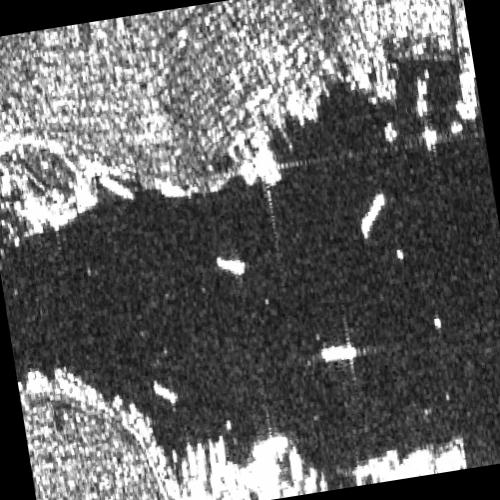ship: (360, 191, 386, 237), (99, 174, 135, 201), (216, 255, 247, 276), (321, 345, 357, 363), (152, 381, 178, 404), (185, 442, 199, 478), (195, 441, 207, 479), (216, 435, 228, 466), (208, 438, 218, 470), (180, 457, 190, 482)
